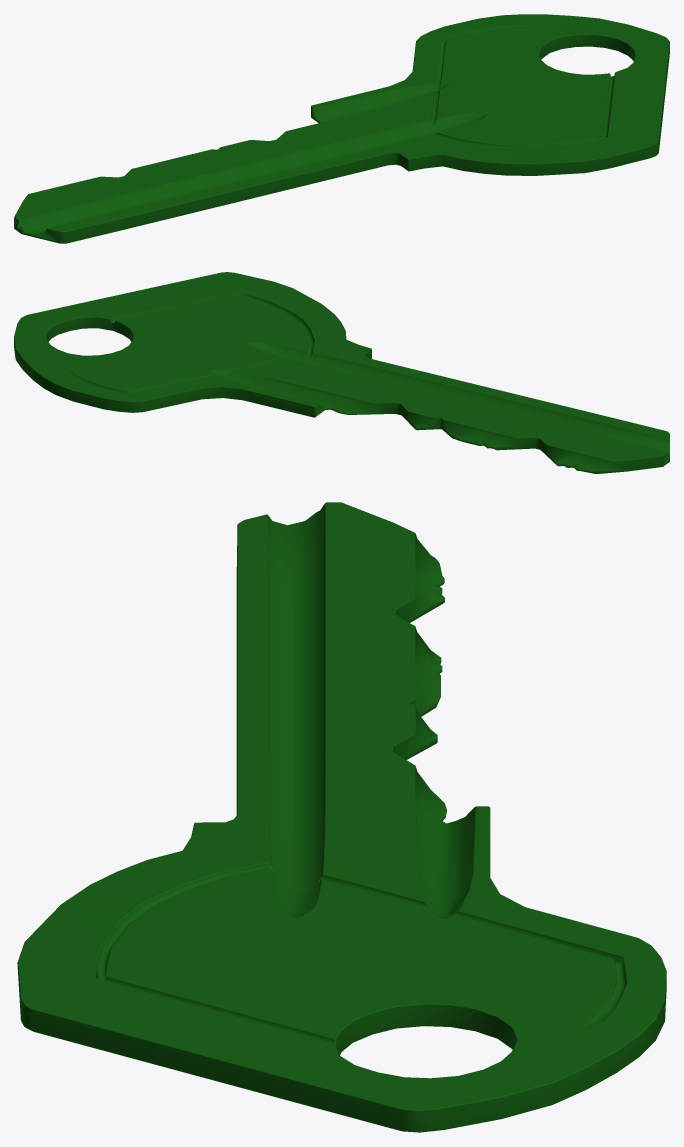
Rendered from Key-001_Lo.fbx.
The picture shows the model from 3 angles, top to bottom: view 1: azimuth 30°, elevation 25°; view 2: azimuth 150°, elevation 25°; view 3: azimuth 270°, elevation 25°; orthographic projection. The views are drawn at different scales.
Visible parts, largest first — view 1: Key_001_Lo; view 2: Key_001_Lo; view 3: Key_001_Lo.
Part boxes in pixels (x1,y1,x2,y2): Key_001_Lo: [14, 14, 669, 243]; Key_001_Lo: [14, 272, 669, 473]; Key_001_Lo: [17, 502, 666, 1132].
Bounding box in the file's own units: 8.63 × 3.89 × 0.152.
